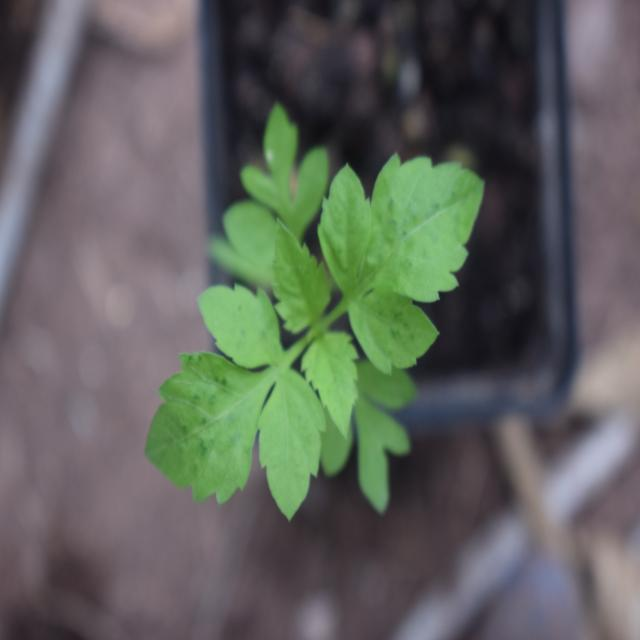Bidens pilosa: (134, 119, 488, 518)
